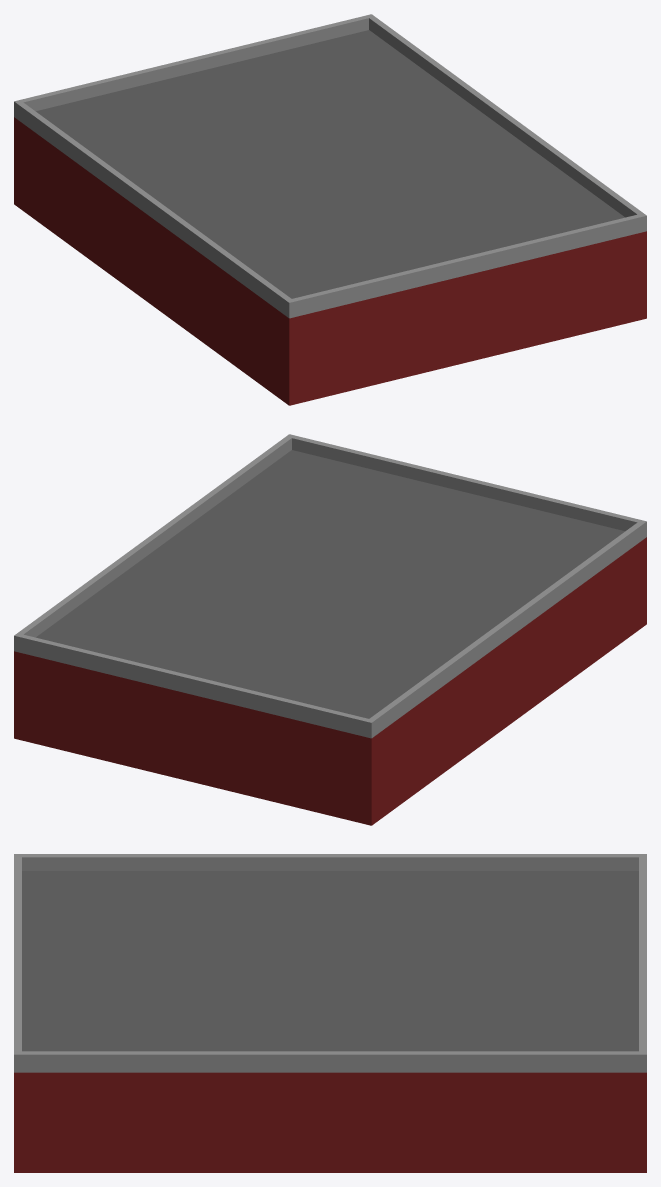
The model's file is Building_30_40_70.FBX.
3 renders of one model, top to bottom at view 1: azimuth 30°, elevation 25°; view 2: azimuth 150°, elevation 25°; view 3: azimuth 270°, elevation 25°, orthographic. The views are drawn at different scales.
Visible parts, largest first — view 1: BakedBuilding_201474103285082; view 2: BakedBuilding_201474103285082; view 3: BakedBuilding_201474103285082.
Boxes of the visible parts, x1,y1,x2,y2 form: BakedBuilding_201474103285082: (14,14,646,405); BakedBuilding_201474103285082: (14,434,646,825); BakedBuilding_201474103285082: (14,854,646,1172).
Bounding box in the file's own units: 3000 × 825 × 4000.
